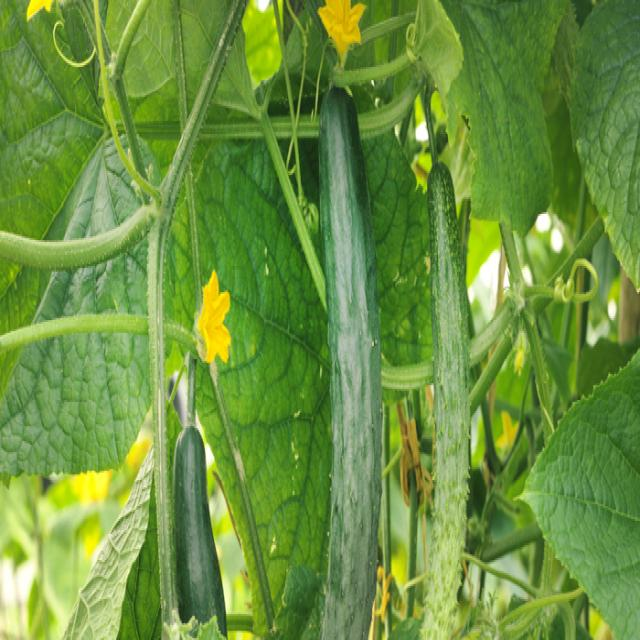cucumber: (303, 74, 391, 640), (412, 147, 486, 640), (169, 388, 230, 640)
